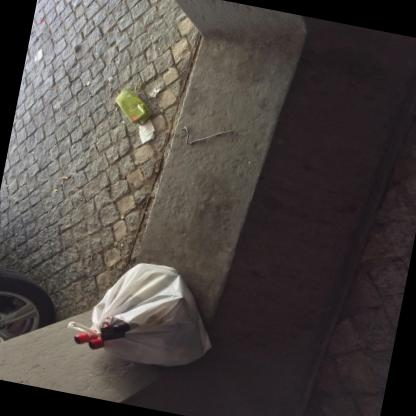Metal: (181, 125, 233, 143), (120, 213, 125, 218), (114, 241, 118, 246), (134, 160, 139, 164), (88, 92, 92, 96), (86, 80, 90, 84), (53, 186, 57, 190)
Paper: (114, 87, 152, 124), (138, 118, 155, 143), (149, 87, 161, 97), (72, 42, 78, 52)
Plastic: (67, 262, 212, 365), (100, 325, 124, 340), (74, 332, 97, 343), (112, 320, 130, 333), (88, 336, 104, 348)
Waste: (40, 17, 44, 22)
